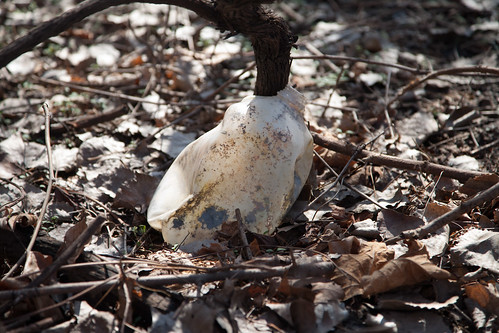trash: (149, 61, 351, 252)
vegetation: (1, 1, 486, 326)
